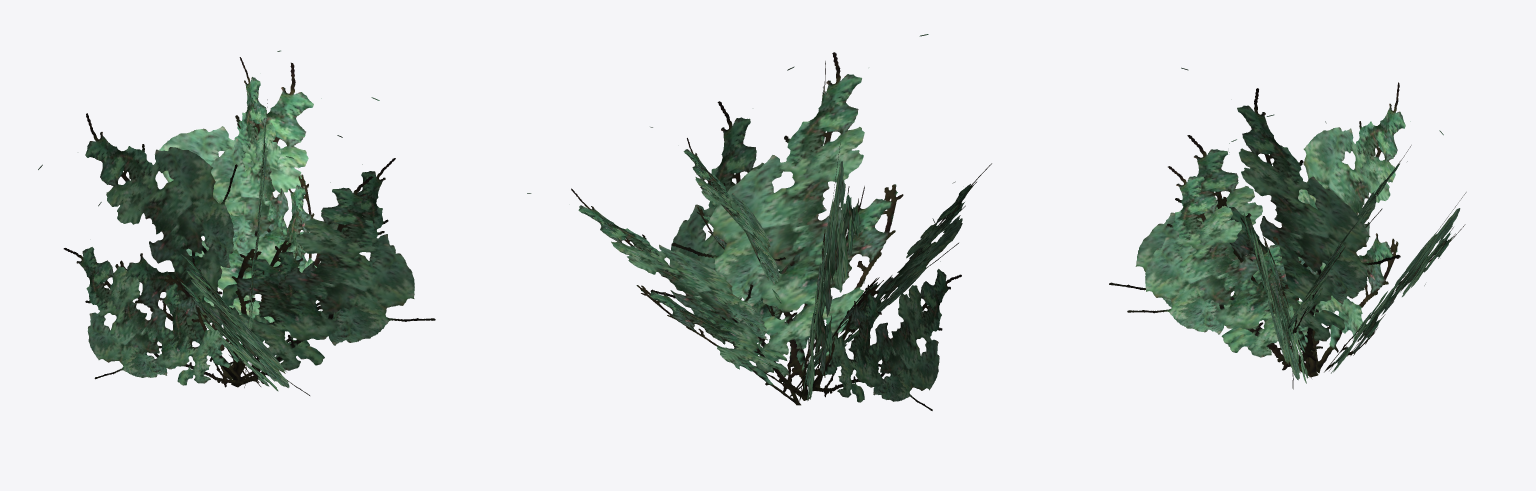
File: Bush_A.glb
3 views of the same model, side by side, from view 1: azimuth 30°, elevation 25°; view 2: azimuth 150°, elevation 25°; view 3: azimuth 270°, elevation 25° (orthographic). The views are drawn at different scales.
Visible parts, largest first — view 1: Bush; view 2: Bush; view 3: Bush.
Part boxes in pixels (box(x1,y1,x2,y2)): Bush: box(38, 50, 435, 395); Bush: box(527, 34, 991, 410); Bush: box(1109, 67, 1466, 389).
Size of the model in its own units: 2.03 by 1.92 by 2.03.
1 material, 1 textured.
